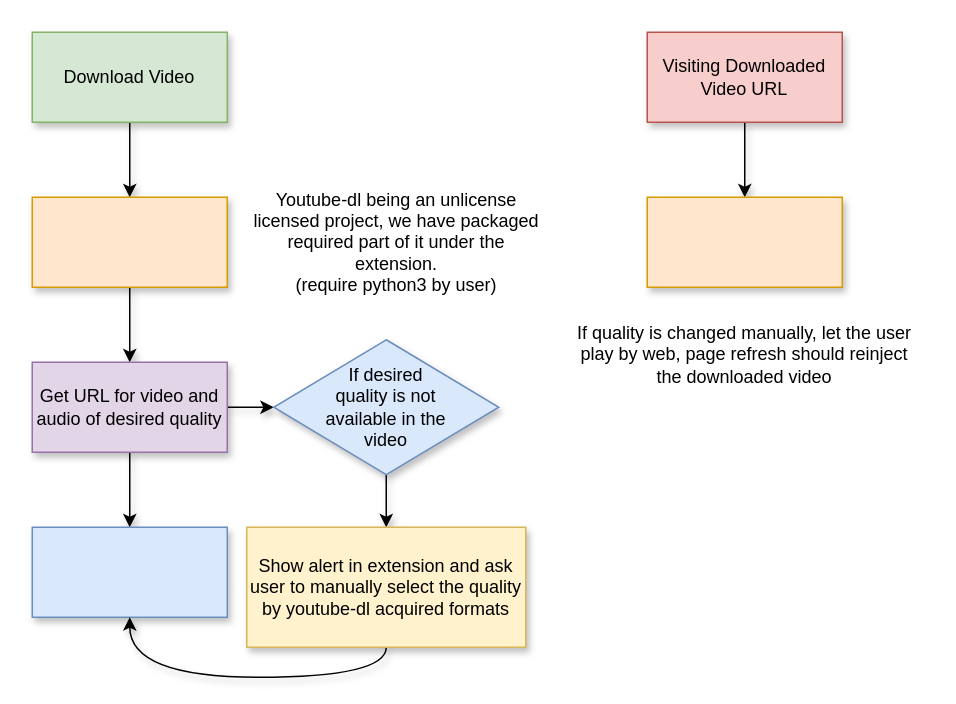
This 956x704 diagram has some shape labels left out. The shapes that lost their labels are listed below. From the top down, each one's centre as x and y in pixels, then its label:
At pixel 130 244: "youtube-dl query info".
At pixel 745 244: "Inject the video by overriding MediaSource".
At pixel 130 574: "Download (WASM Fetch utility)".
